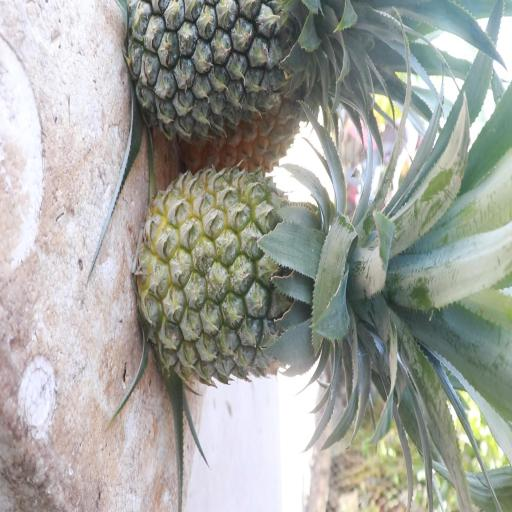------------------------------: (131, 168, 445, 388)
